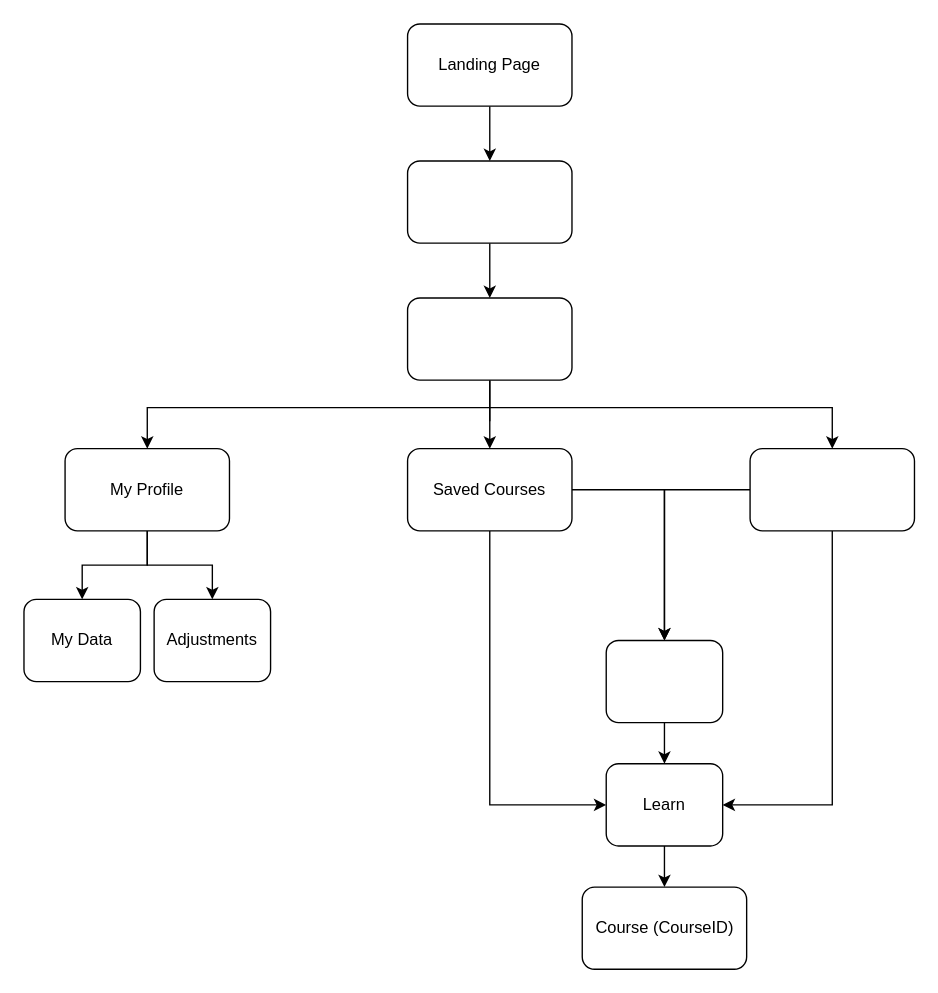
Some shapes in this 938 by 993 pixel diagram are drawn without their labels. Each missing label, with the centre of its shape:
"Catalog" goes at (x=831, y=489).
"Home" goes at (x=489, y=338).
"Login" goes at (x=489, y=201).
"Title Page" goes at (x=664, y=681).
